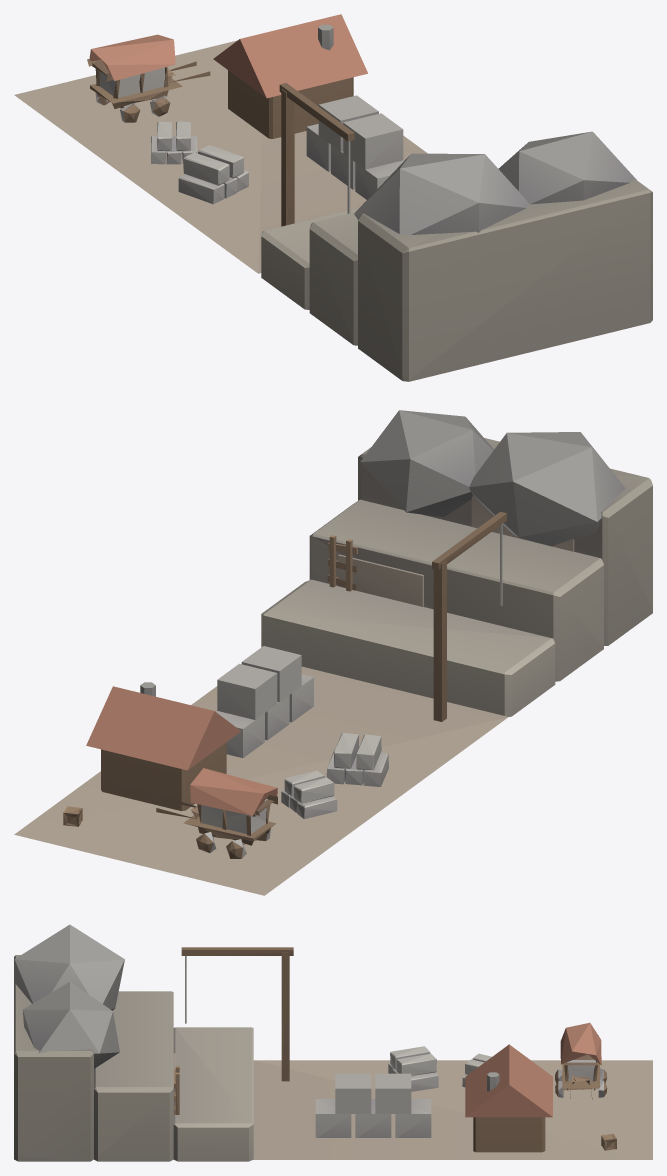
File: quarry.glb
3 views of the same model, one above another, from view 1: azimuth 30°, elevation 25°; view 2: azimuth 150°, elevation 25°; view 3: azimuth 270°, elevation 25° (orthographic). The views are drawn at different scales.
Parts seen in each view (by area): view 1: quarry; view 2: quarry; view 3: quarry.
Part boxes in pixels (x1,y1,x2,y2): quarry: (14, 14, 652, 381); quarry: (14, 410, 652, 895); quarry: (14, 924, 652, 1161).
Bounding box in the file's own units: 2.96 × 2.06 × 8.
